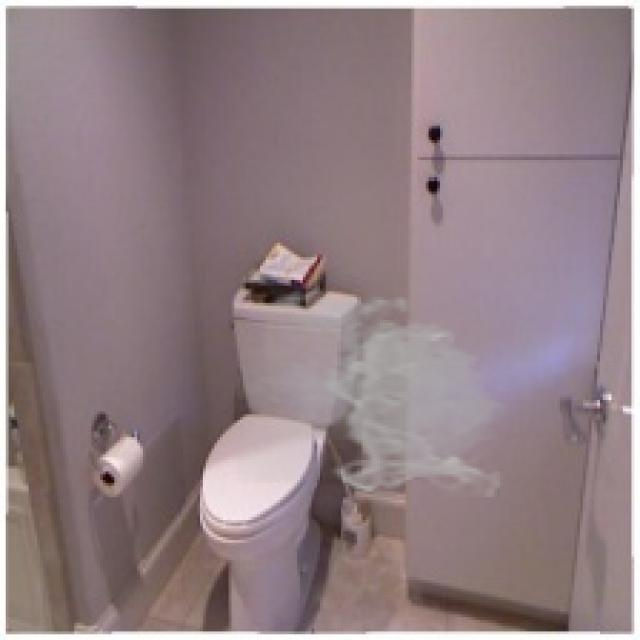smoke: (237, 283, 512, 497)
